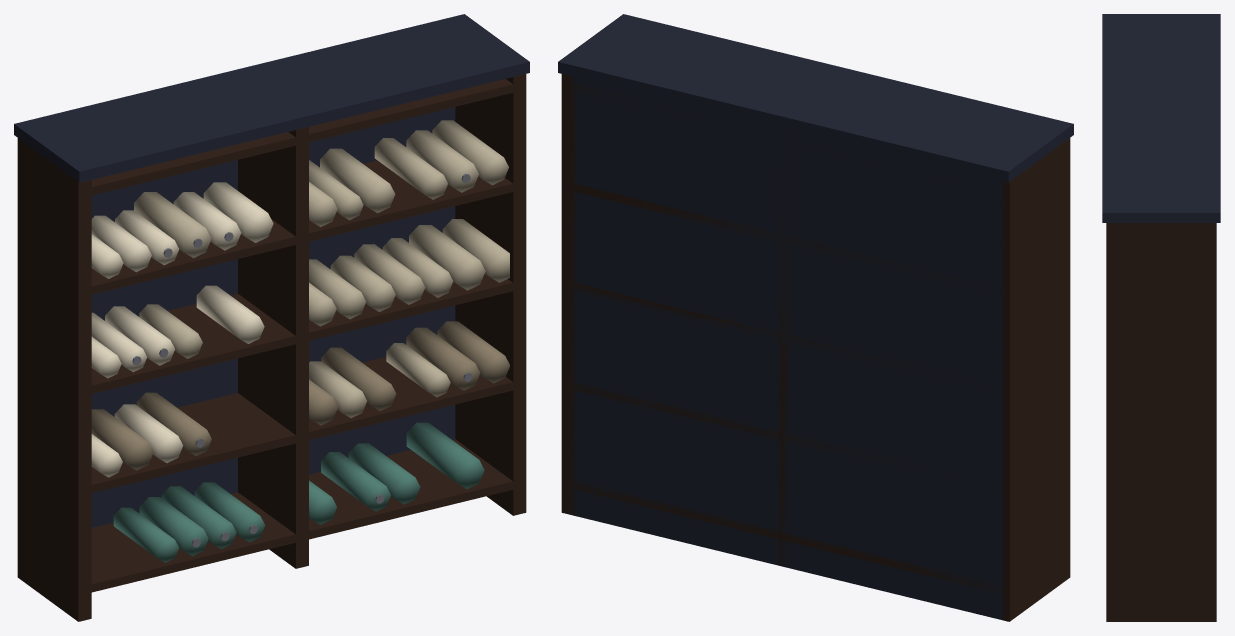
The model's file is shelf.glb.
3 views of the same model, side by side, from view 1: azimuth 30°, elevation 25°; view 2: azimuth 150°, elevation 25°; view 3: azimuth 270°, elevation 25° (orthographic). The views are drawn at different scales.
Visible parts, largest first — view 1: Shelf; view 2: Shelf; view 3: Shelf.
Part boxes in pixels (<box>): Shelf: <box>14,14,529,621</box>; Shelf: <box>558,14,1073,621</box>; Shelf: <box>1102,14,1220,621</box>.
Bounding box in the file's own units: 3.42 × 3.28 × 0.86.
